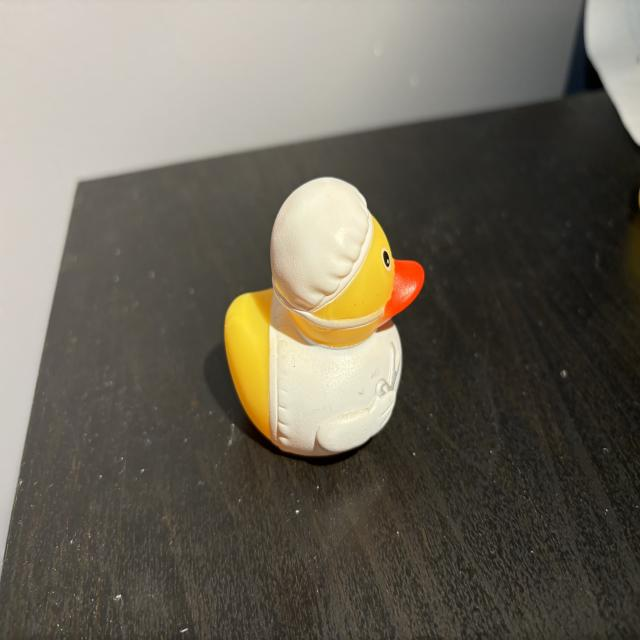duck_specialty: (224, 178, 426, 460)
